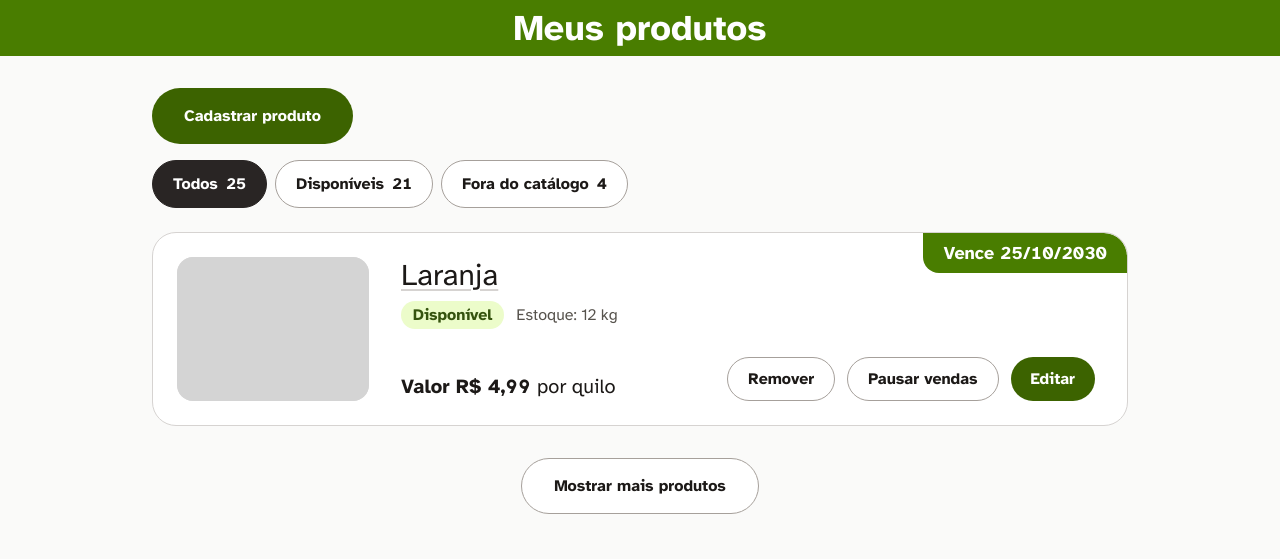
Test: MyProducts, pages › moves a paused product between the tab counts
Click the button "Pausar vendas" at (923, 379), box [847,357,999,401]
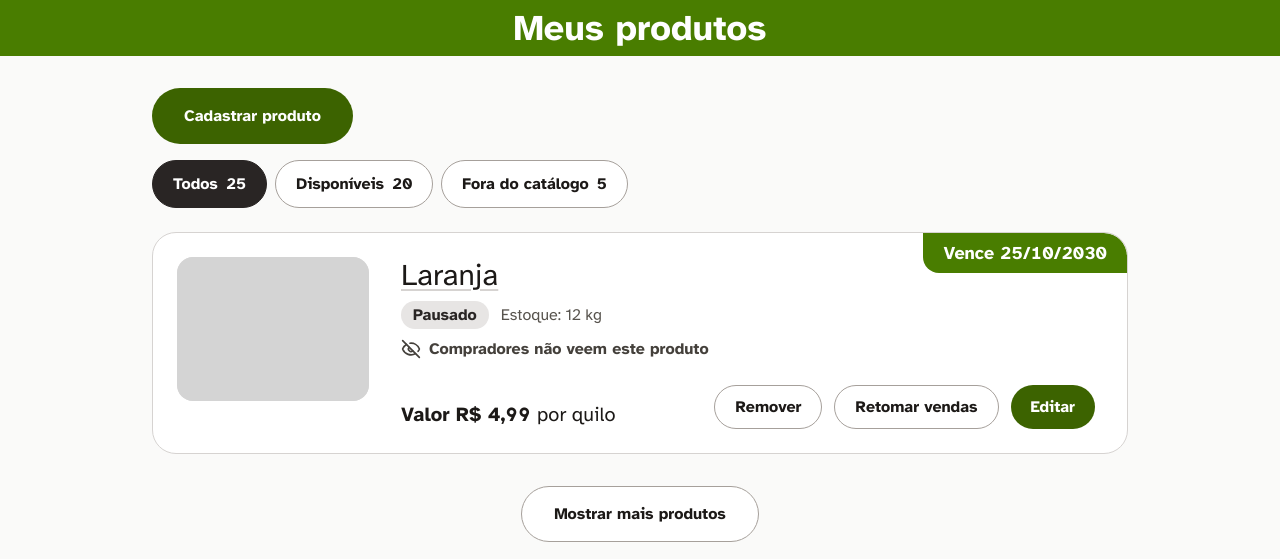
Expected: the text "Pausado" is shown, [401,301,489,329]
Expected: the button "Disponíveis 20" is shown, [275,160,433,208]
Expected: the button "Fora do catálogo 5" is shown, [441,160,628,208]
